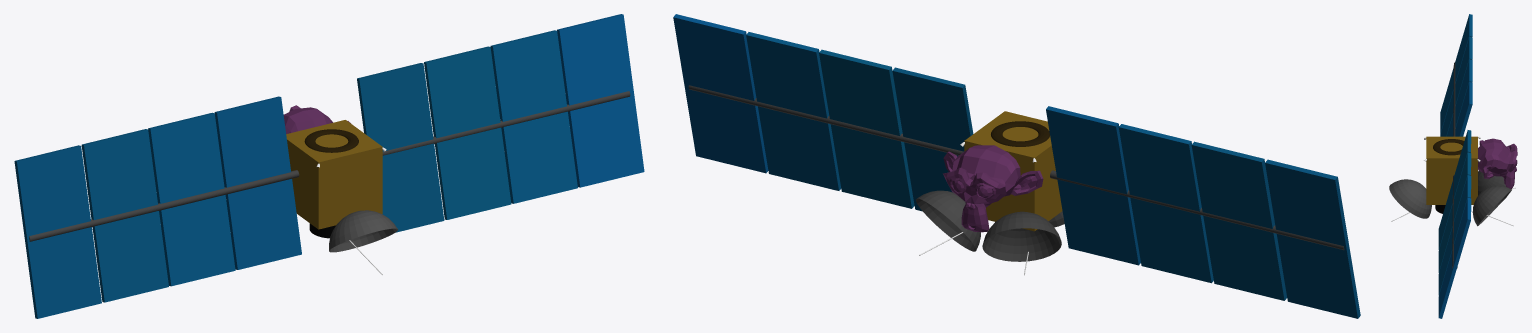
The model's file is gokturk0.4.gltf.
3 renders of one model, left to right at view 1: azimuth 30°, elevation 25°; view 2: azimuth 150°, elevation 25°; view 3: azimuth 270°, elevation 25°, orthographic. The views are drawn at different scales.
Parts seen in each view (by area): view 1: Cube.001, Cube.002, Cube.003, Cube.005, Cube.008, Cube.007, Cube.006, Cube.004, Cube, Cylinder.001, Sphere, Suzanne (+1 smaller); view 2: Cube.006, Cube.005, Cube.008, Cube.007, Cube.001, Cube.003, Cube.002, Cube.004, Suzanne, Cube, Sphere.002, Cylinder.001 (+2 smaller); view 3: Cube, Suzanne, Cube.003, Sphere, Sphere.001, Cube.004, Cube.001, Cube.002, Cube.005, Cube.008, Cube.007, Cube.006 (+3 smaller).
Boxes of the visible parts, x1=… form: Cube.001: x1=424, y1=46, x2=511, y2=219; Cube.002: x1=490, y1=30, x2=577, y2=203; Cube.003: x1=557, y1=14, x2=644, y2=187; Cube.005: x1=14, y1=145, x2=101, y2=318; Cube.008: x1=81, y1=129, x2=168, y2=302; Cube.007: x1=148, y1=112, x2=235, y2=286; Cube.006: x1=214, y1=96, x2=301, y2=269; Cube.004: x1=357, y1=63, x2=444, y2=232; Cube: x1=286, y1=120, x2=382, y2=229; Cylinder.001: x1=29, y1=91, x2=630, y2=241; Sphere: x1=329, y1=210, x2=397, y2=252; Suzanne: x1=283, y1=105, x2=350, y2=133; Cube.006: x1=1046, y1=106, x2=1140, y2=265; Cube.005: x1=1265, y1=159, x2=1360, y2=318; Cube.008: x1=1191, y1=141, x2=1287, y2=300; Cube.007: x1=1118, y1=124, x2=1213, y2=283; Cube.001: x1=819, y1=49, x2=914, y2=208; Cube.003: x1=673, y1=14, x2=768, y2=173; Cube.002: x1=746, y1=32, x2=841, y2=190; Cube.004: x1=892, y1=67, x2=973, y2=211; Suzanne: x1=943, y1=145, x2=1043, y2=232; Cube: x1=964, y1=111, x2=1062, y2=231; Sphere.002: x1=982, y1=211, x2=1061, y2=261; Cylinder.001: x1=688, y1=85, x2=1344, y2=250; Cube: x1=1426, y1=136, x2=1477, y2=204; Suzanne: x1=1478, y1=138, x2=1517, y2=188; Cube.003: x1=1438, y1=197, x2=1471, y2=318; Sphere: x1=1389, y1=179, x2=1431, y2=218; Sphere.001: x1=1472, y1=186, x2=1511, y2=226; Cube.004: x1=1438, y1=130, x2=1471, y2=249; Cube.001: x1=1438, y1=152, x2=1471, y2=272; Cube.002: x1=1438, y1=175, x2=1471, y2=295; Cube.005: x1=1440, y1=14, x2=1472, y2=134; Cube.008: x1=1440, y1=37, x2=1472, y2=136; Cube.007: x1=1446, y1=59, x2=1472, y2=136; Cube.006: x1=1455, y1=82, x2=1472, y2=136.
Size of the model in its own units: 18.88 by 4.41 by 5.
